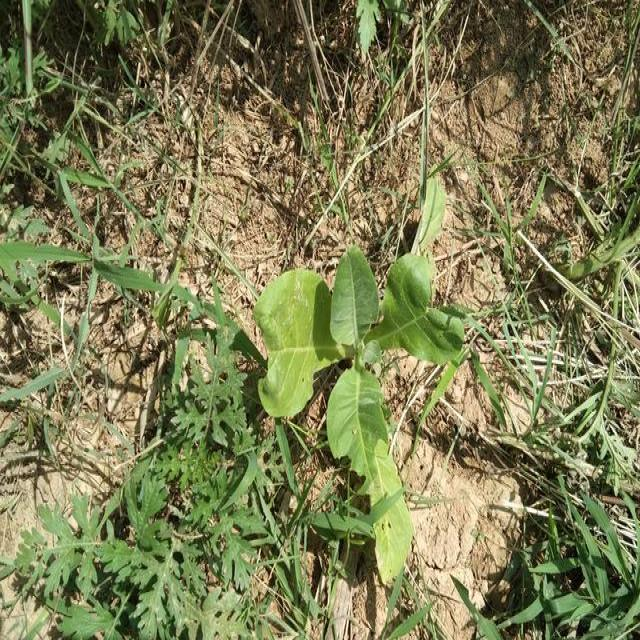crop: (247, 244, 464, 587)
